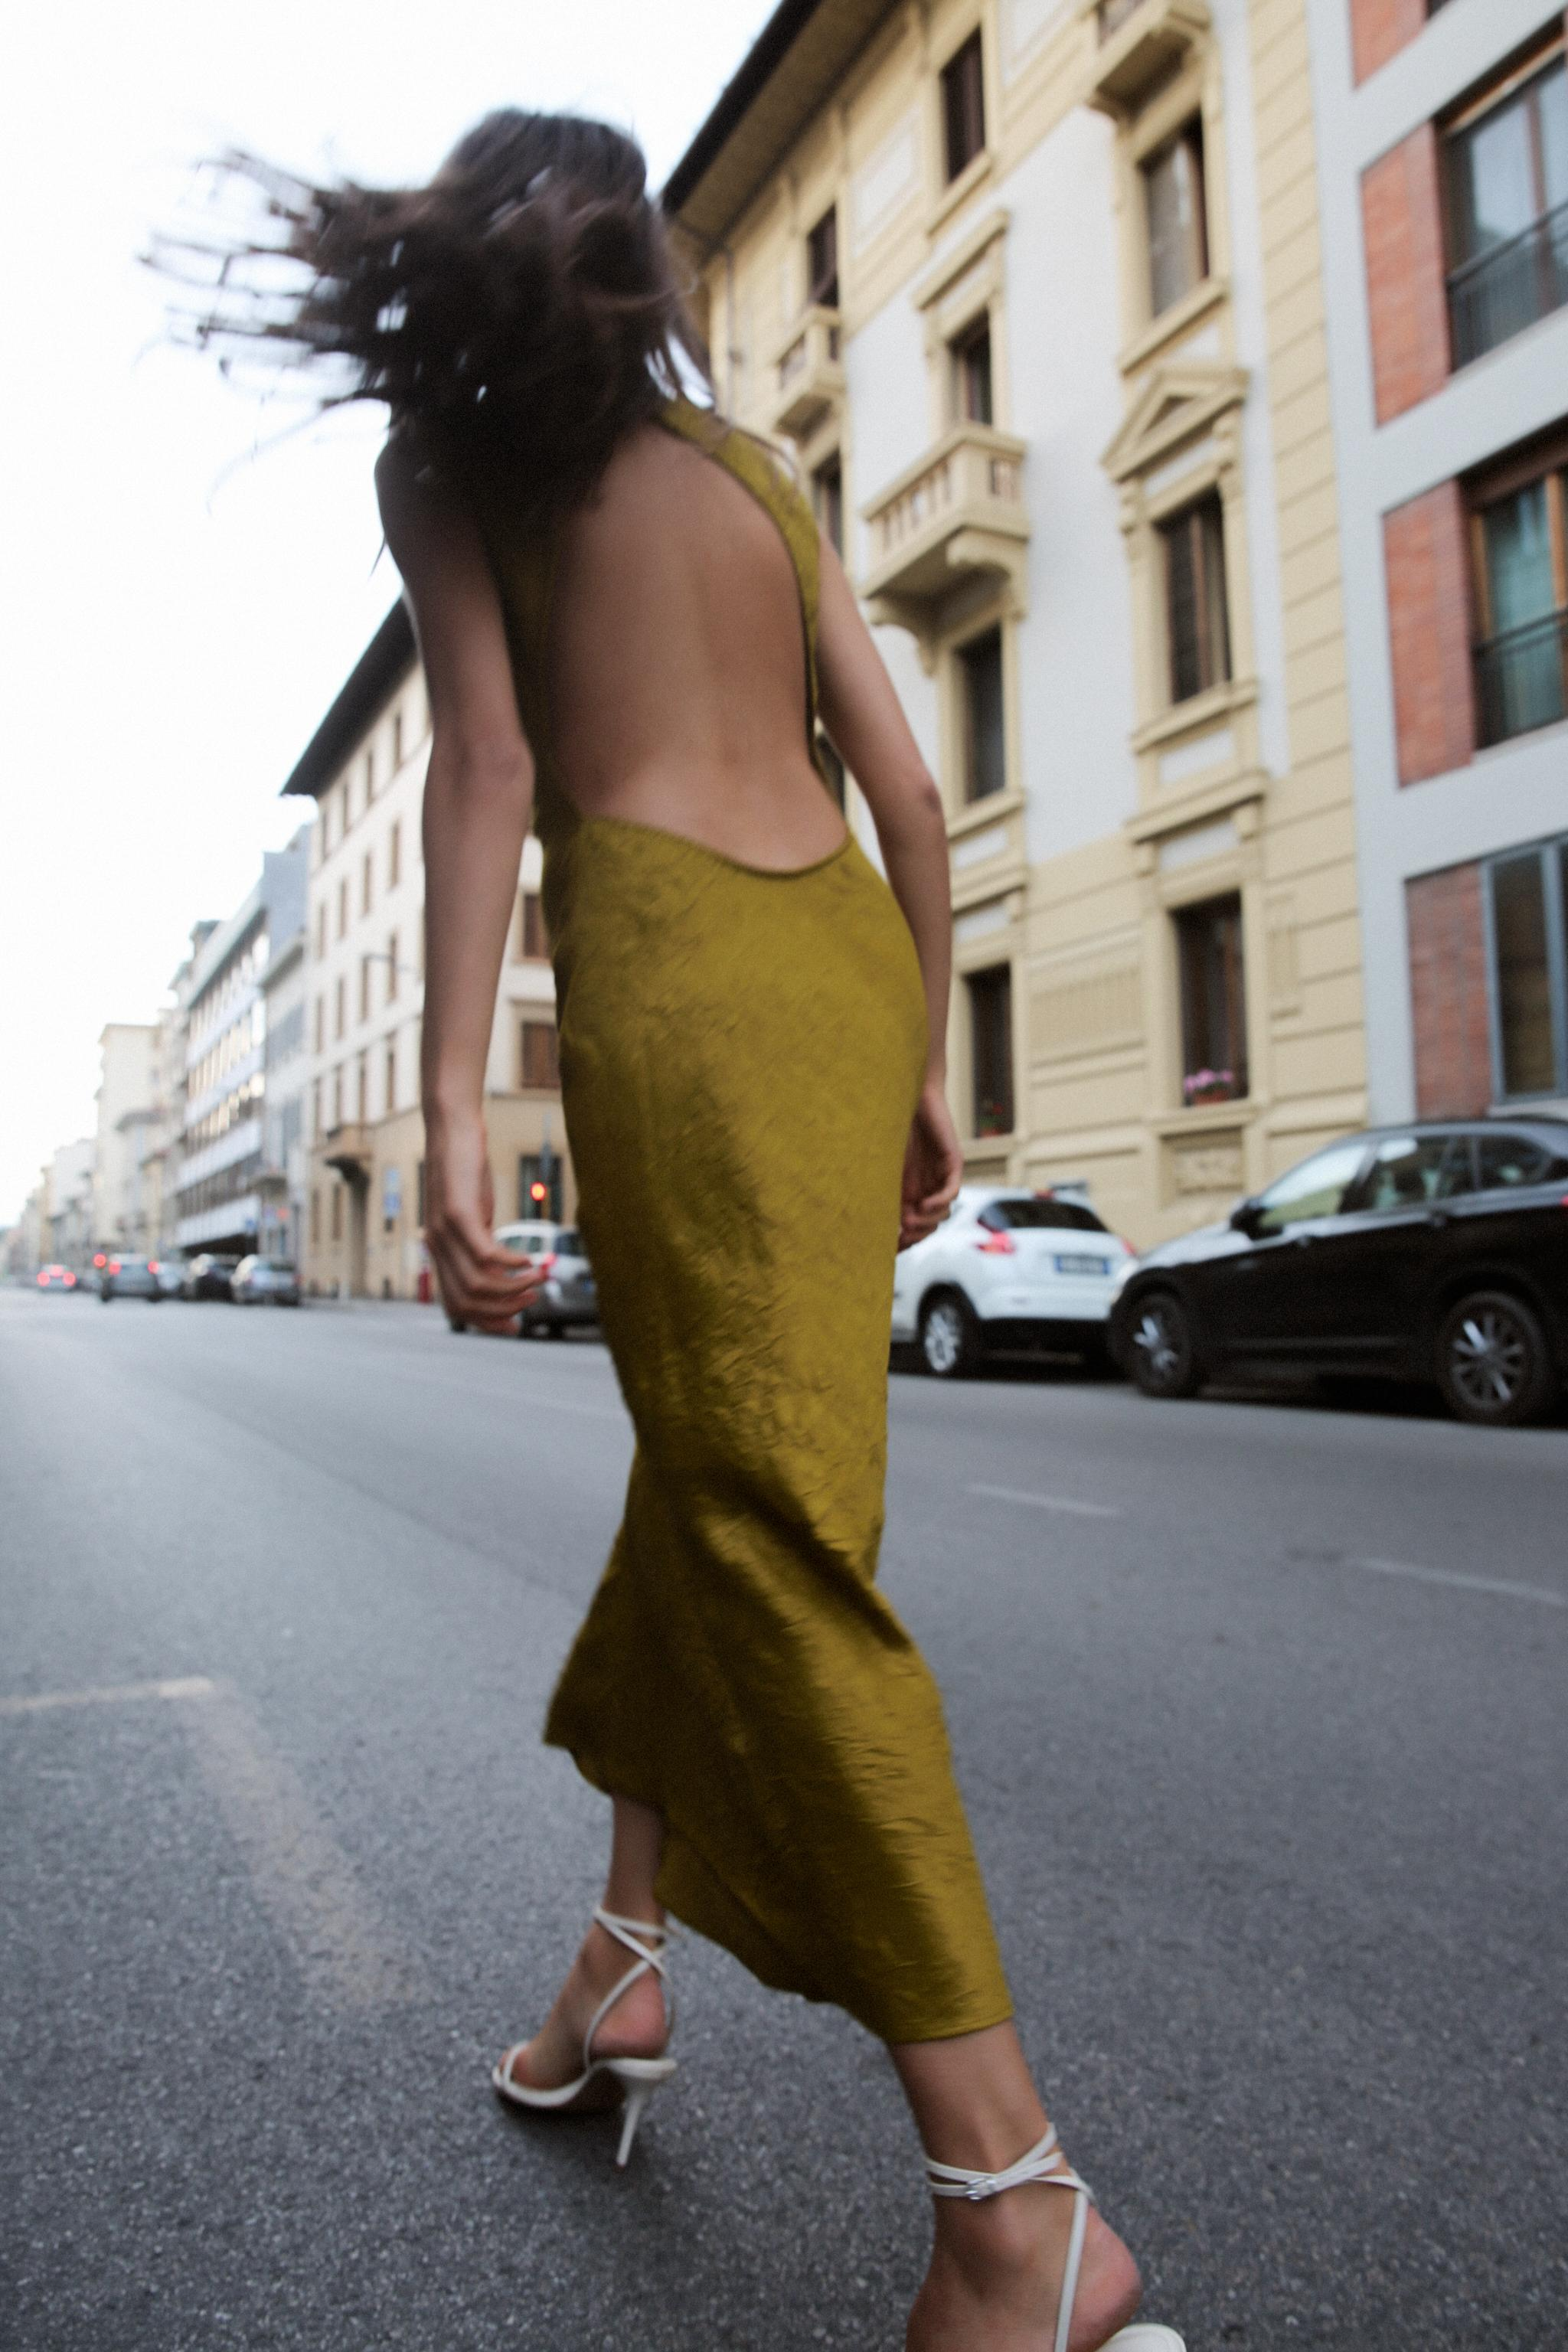car: (1122, 1074, 1568, 1530), (886, 1141, 1164, 1415)
person: (305, 63, 1173, 2352)
